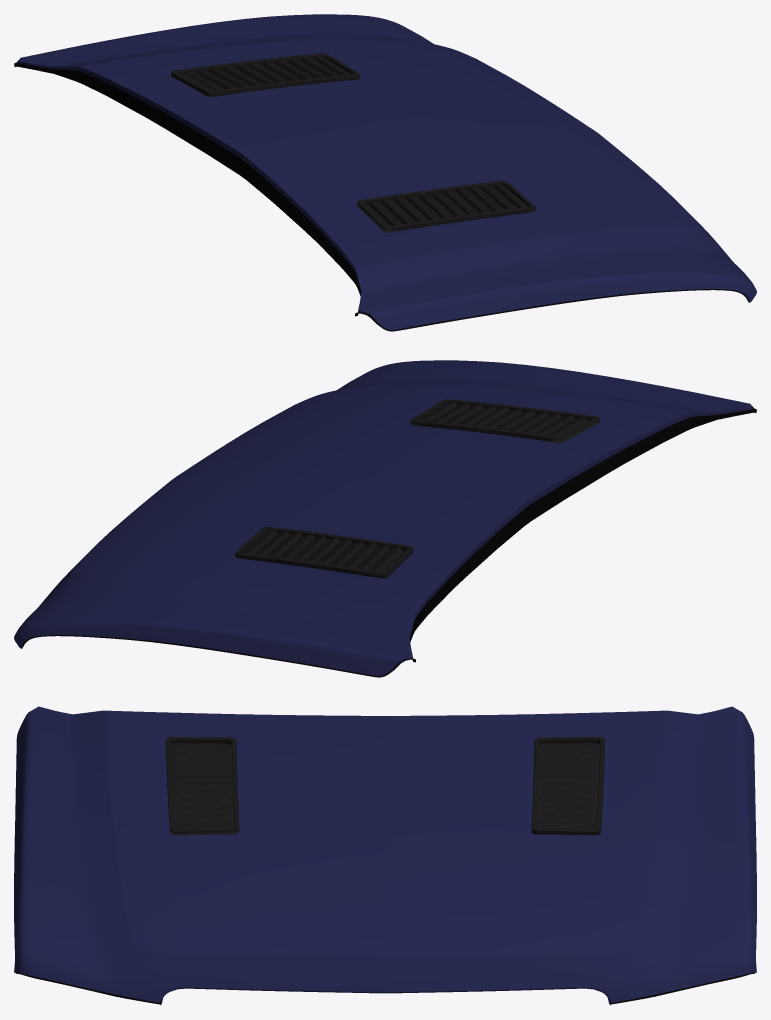
3 views of the same model, one above another, from view 1: azimuth 30°, elevation 25°; view 2: azimuth 150°, elevation 25°; view 3: azimuth 270°, elevation 25° (orthographic).
Parts seen in each view (by area): view 1: U803_3A_101B_C_U803_3A_101B_C_1_DaS, U803_3A_101B_C_2_D_U803_3A_101B_C, U803_3A_101B_C_U803_3A_101B_C_3_D, U803_3A_101B_C_U803_3A_101B_C_1_DaS_E; view 2: U803_3A_101B_C_U803_3A_101B_C_1_DaS, U803_3A_101B_C_2_D_U803_3A_101B_C, U803_3A_101B_C_U803_3A_101B_C_3_D, U803_3A_101B_C_U803_3A_101B_C_1_DaS_E; view 3: U803_3A_101B_C_U803_3A_101B_C_1_DaS, U803_3A_101B_C_2_D_U803_3A_101B_C, U803_3A_101B_C_U803_3A_101B_C_1_DaS_E, U803_3A_101B_C_U803_3A_101B_C_3_D.
Boxes of the visible parts, x1,y1,x2,y2 form: U803_3A_101B_C_U803_3A_101B_C_1_DaS: (18, 14, 756, 329); U803_3A_101B_C_2_D_U803_3A_101B_C: (171, 53, 535, 232); U803_3A_101B_C_U803_3A_101B_C_3_D: (14, 60, 749, 331); U803_3A_101B_C_U803_3A_101B_C_1_DaS_E: (17, 61, 750, 330); U803_3A_101B_C_U803_3A_101B_C_1_DaS: (14, 360, 752, 675); U803_3A_101B_C_2_D_U803_3A_101B_C: (235, 399, 599, 578); U803_3A_101B_C_U803_3A_101B_C_3_D: (21, 406, 756, 677); U803_3A_101B_C_U803_3A_101B_C_1_DaS_E: (20, 407, 753, 676); U803_3A_101B_C_U803_3A_101B_C_1_DaS: (14, 706, 756, 1002); U803_3A_101B_C_2_D_U803_3A_101B_C: (165, 737, 605, 835); U803_3A_101B_C_U803_3A_101B_C_1_DaS_E: (159, 987, 611, 1003); U803_3A_101B_C_U803_3A_101B_C_3_D: (15, 972, 755, 1004).
Bounding box in the file's own units: 107 × 25.45 × 158.
